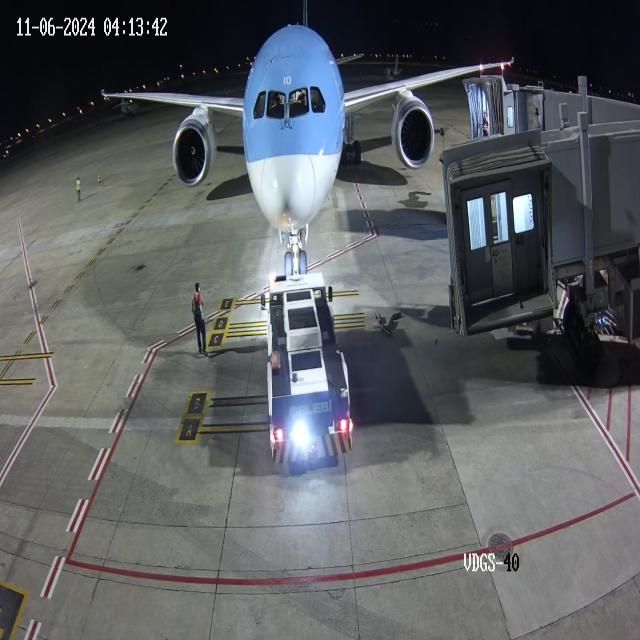bridge: (489, 71, 545, 146)
plane: (85, 14, 440, 276)
window: (248, 74, 335, 130)
